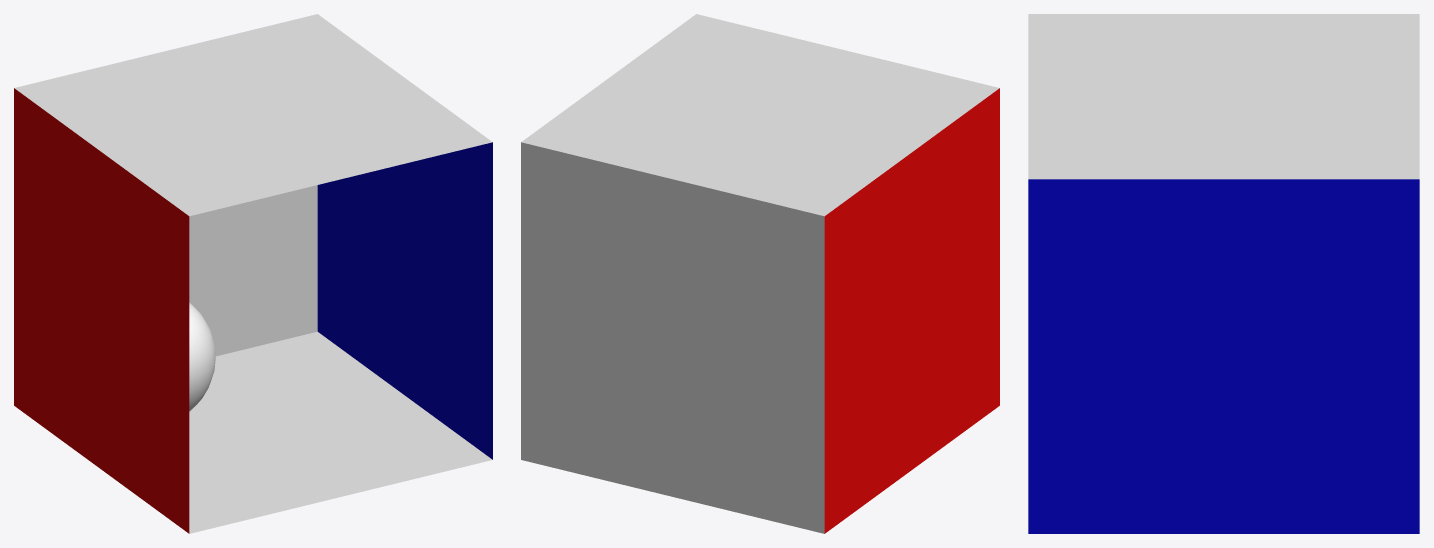
3 views of the same model, side by side, from view 1: azimuth 30°, elevation 25°; view 2: azimuth 150°, elevation 25°; view 3: azimuth 270°, elevation 25° (orthographic). The views are drawn at different scales.
Visible parts, largest first — view 1: left, top, right, bottom, back, ball1; view 2: back, left, top; view 3: right, top.
Part boxes in pixels (<box>): left: <box>14,88,189,533</box>; top: <box>14,14,492,216</box>; right: <box>317,142,492,459</box>; bottom: <box>189,331,492,533</box>; back: <box>189,185,317,356</box>; ball1: <box>189,302,215,411</box>; back: <box>521,142,824,533</box>; left: <box>824,88,999,533</box>; top: <box>521,14,999,216</box>; right: <box>1028,179,1419,533</box>; top: <box>1028,14,1419,179</box>.
Size of what is drawn, in the model's own units: 2 by 2 by 2.
